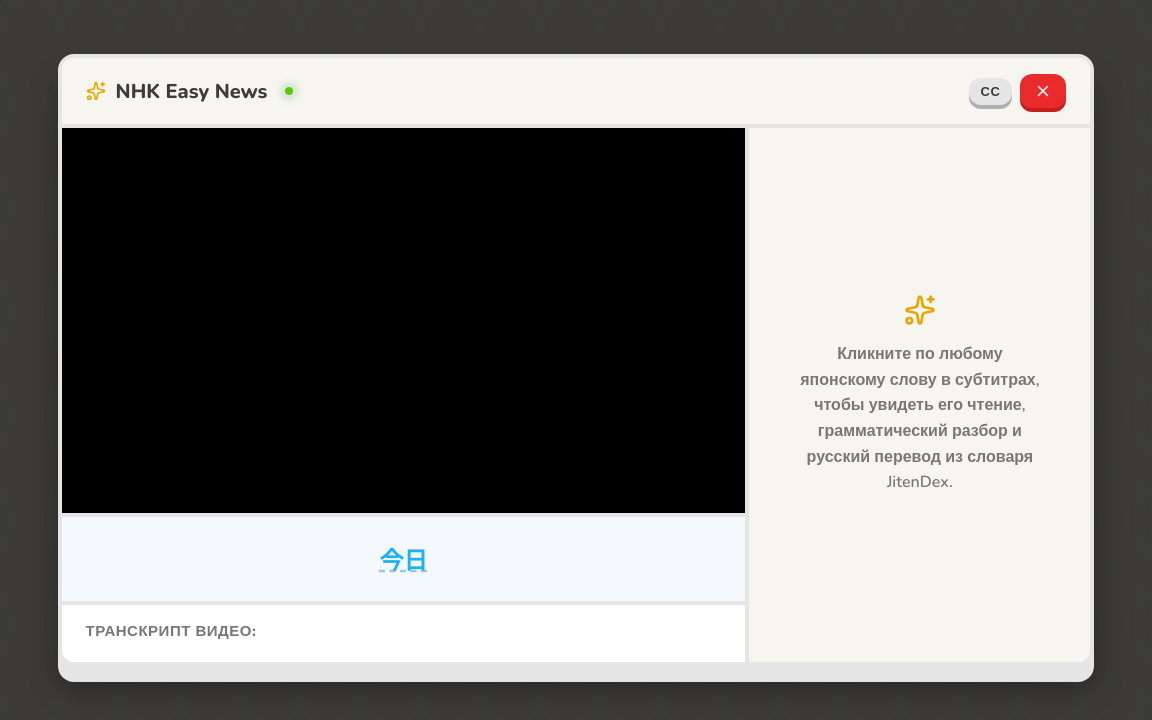
MediaInteractivePlayer Component › renders interactive tokens when player seeks to segment and handles dictionary lookup
# Кликаем по токену "今日"
Click the text with test id "word-token".
click(404, 559)  # box [372, 537, 436, 581]
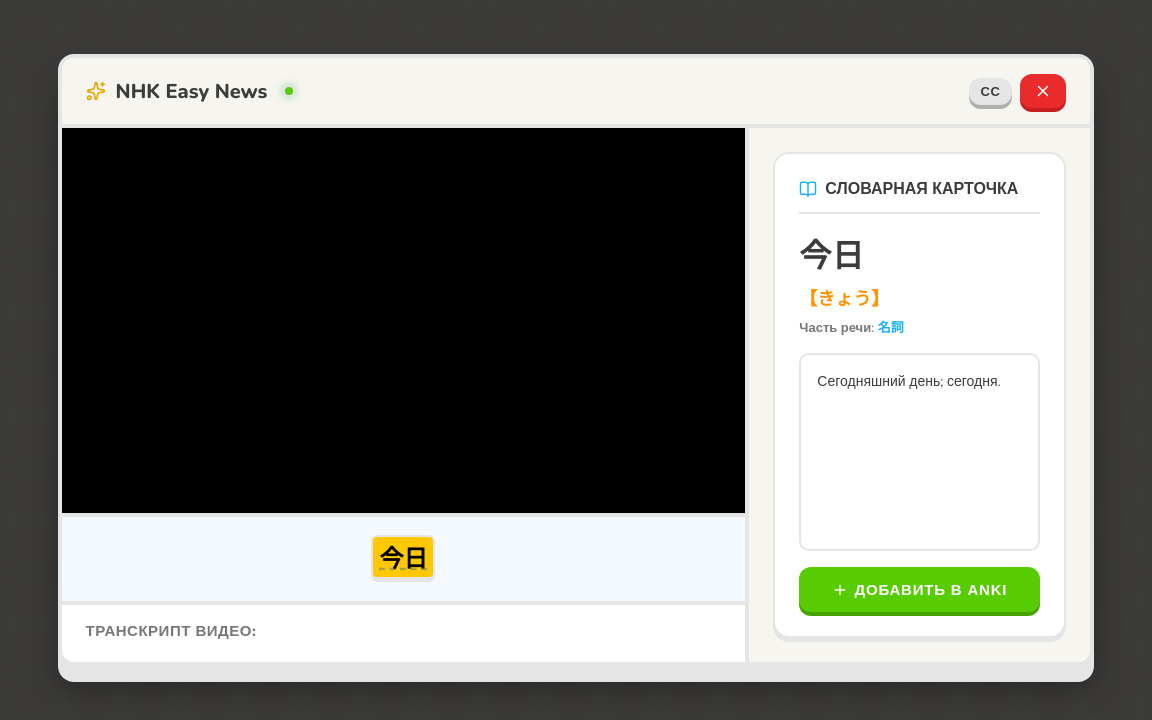
Expected: the heading "Словарная карточка" is shown, [825, 178, 1018, 200]
Expected: the text "Сегодняшний день; сегодня." is shown, [817, 371, 1022, 393]
Expected: the text "【きょう】" is shown, [799, 287, 889, 311]
